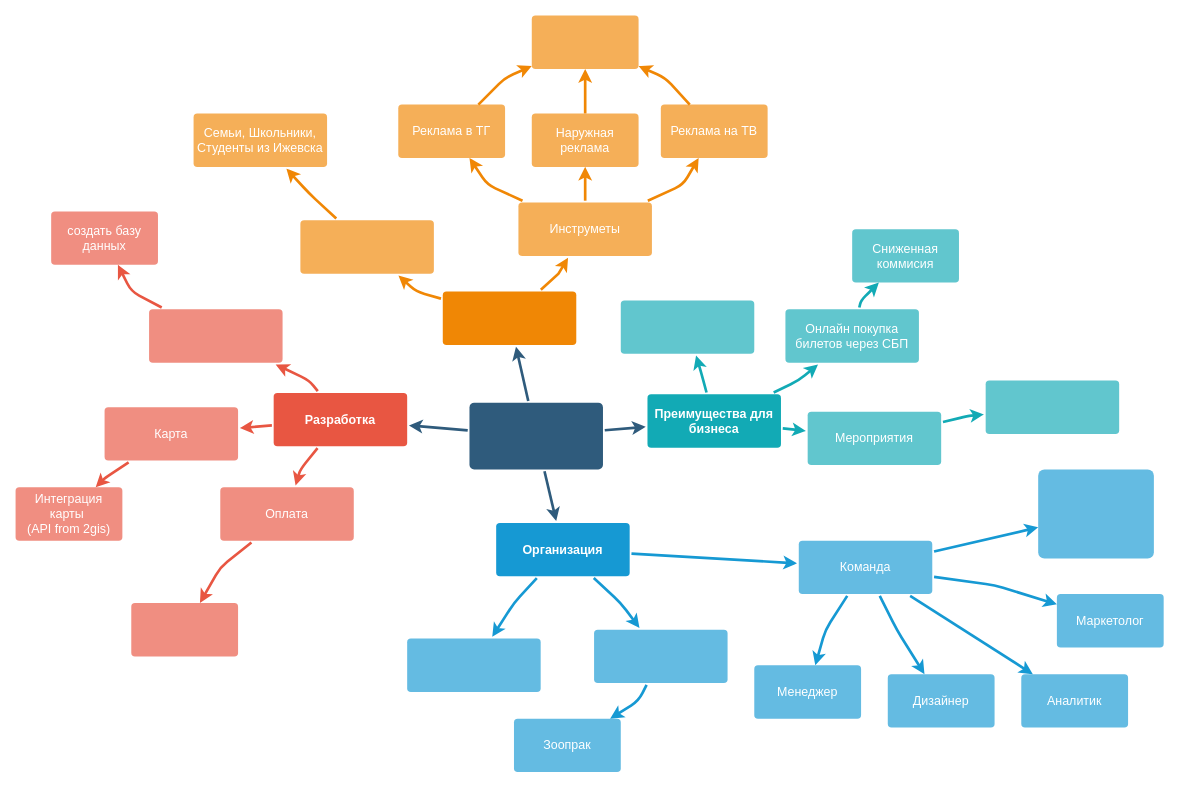
The diagram is 1178 pixels wide and 787 high, and some of its shapes have lost their labels. Here are the shapes that lost their labels. From the top down, the centre of each, then its label:
point 584,42: Дизайн проект
point 366,246: Таргетирование
point 215,335: Описание животных
point 509,317: Реклама
point 687,326: Пи-ар
point 1052,406: Дополнительная рекламма
point 536,435: Приложение зоопарка
point 1095,513: Fullstack-разраб гений миллиардер плейбой филантроп
point 184,629: Подключение СБП
point 473,665: Офис
point 660,656: Источники финансированния
